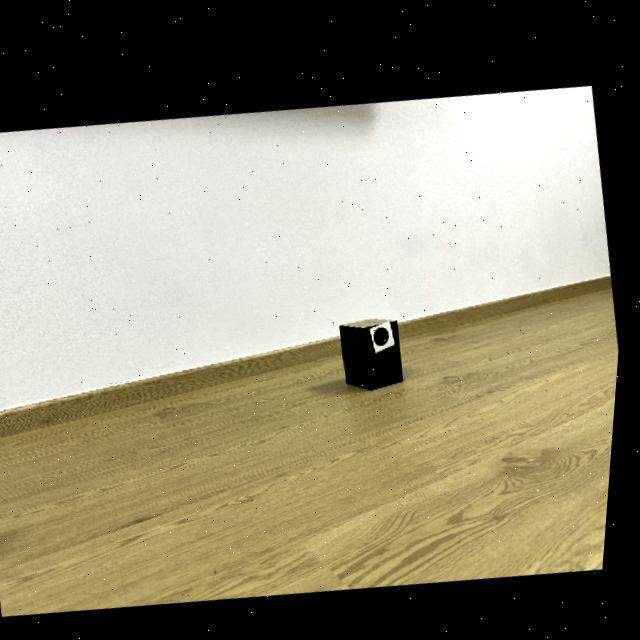CIRCLE: (378, 318, 394, 337)
